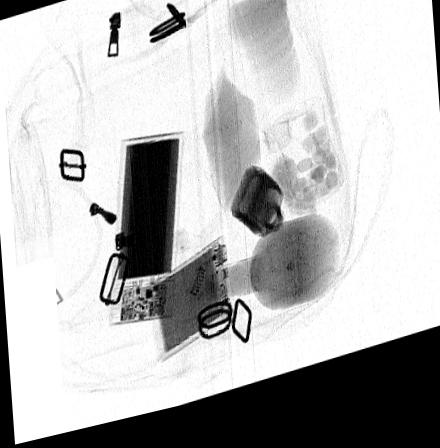Powerbank: (109, 138, 183, 330), (144, 245, 234, 369)
